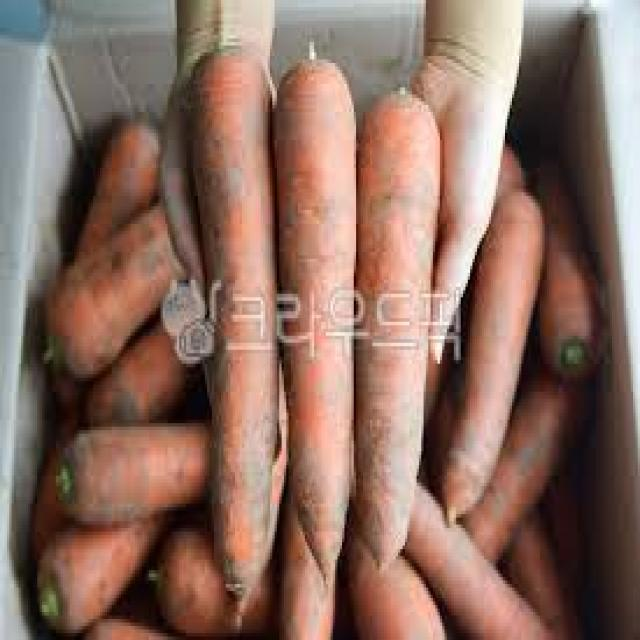Stale_Carrot: (187, 39, 264, 602), (357, 107, 440, 564), (39, 200, 200, 365), (60, 424, 219, 533)
